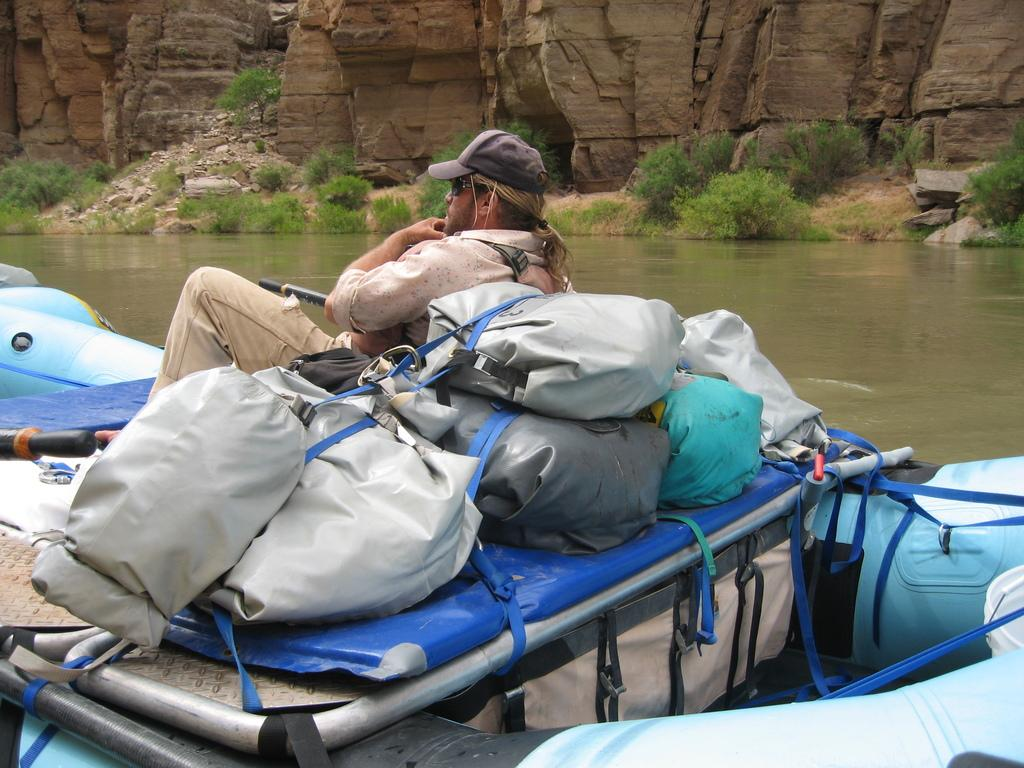Hat: (429, 127, 551, 198)
